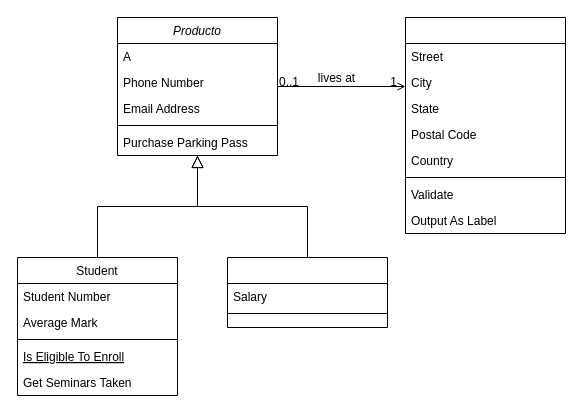
Some shapes in this 583 by 416 pixel diagram are drawn without their labels. The shapes that lost their labels are listed below. From the top down, each one's box as (x1, y1, x2, y2) in pixels, then its label:
(404, 16, 566, 234): Address
(226, 256, 388, 328): Professor
